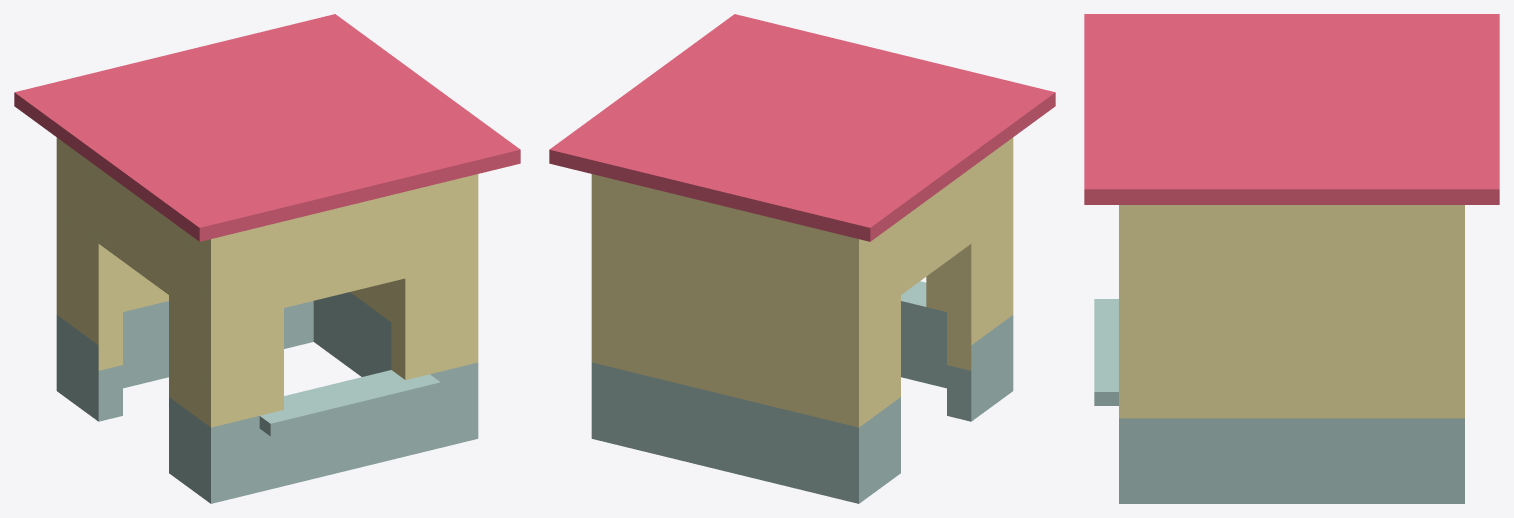
The model's file is casa-_low_poly.glb.
3 renders of one model, left to right at view 1: azimuth 30°, elevation 25°; view 2: azimuth 150°, elevation 25°; view 3: azimuth 270°, elevation 25°, orthographic. The views are drawn at different scales.
Visible parts, largest first — view 1: Plane; view 2: Plane; view 3: Plane.
Part boxes in pixels (<box>): Plane: <box>14,14,520,503</box>; Plane: <box>549,14,1055,503</box>; Plane: <box>1084,14,1499,503</box>.
Bounding box in the file's own units: 241 × 210 × 241.
1 material, 1 textured.
